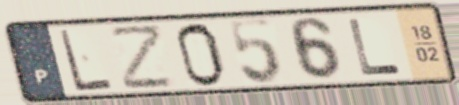0: (173, 21, 229, 88)
5: (226, 16, 286, 87)
6: (287, 15, 344, 83)
L: (56, 27, 116, 94), (345, 16, 404, 77)
Z: (107, 22, 178, 92)
